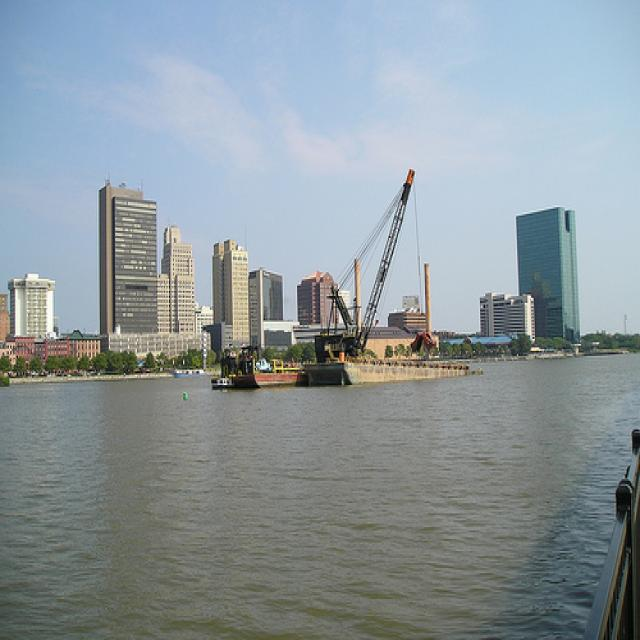boat: (305, 169, 484, 386), (211, 342, 309, 391)
